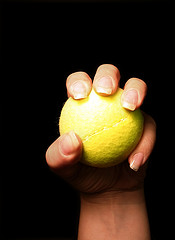tennis ball: (58, 84, 145, 167)
